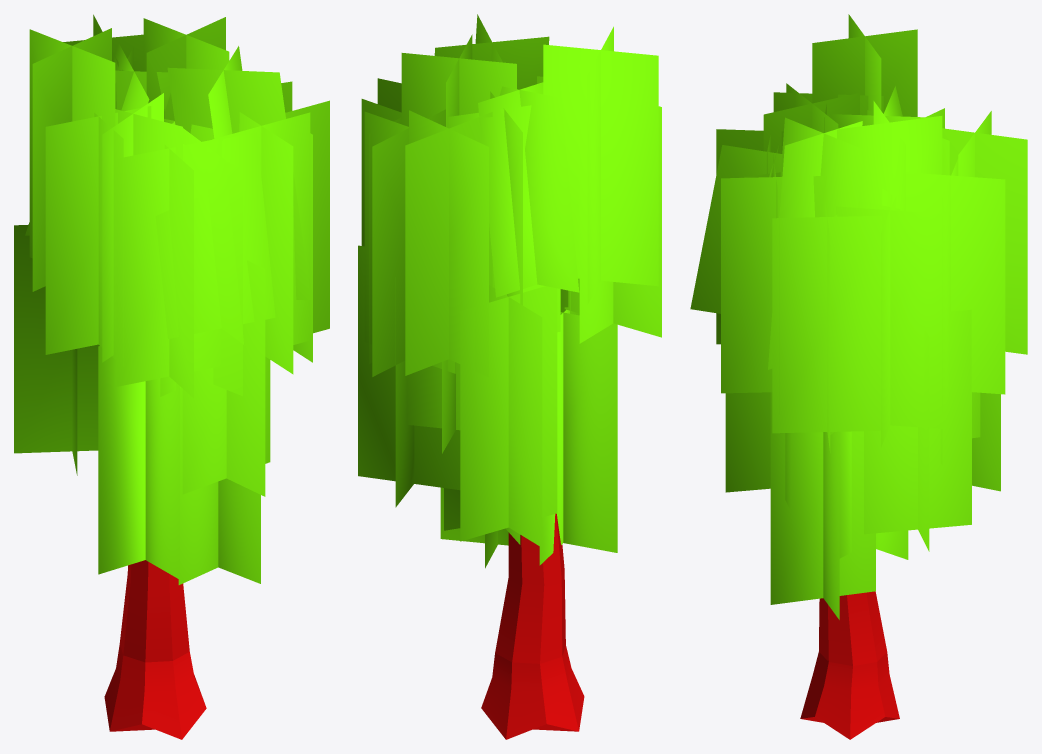
The model's file is SM_Tree_Willow_Small_01.glb.
3 renders of one model, left to right at view 1: azimuth 30°, elevation 25°; view 2: azimuth 150°, elevation 25°; view 3: azimuth 270°, elevation 25°, orthographic. The views are drawn at different scales.
Visible parts, largest first — view 1: SM_Tree_Willow_Small_01; view 2: SM_Tree_Willow_Small_01; view 3: SM_Tree_Willow_Small_01.
Boxes of the visible parts, <box> form: SM_Tree_Willow_Small_01: <box>14,14,329,739</box>; SM_Tree_Willow_Small_01: <box>358,14,661,739</box>; SM_Tree_Willow_Small_01: <box>690,14,1027,739</box>.
Size of the model in its own units: 2.12 by 4.9 by 2.28.
